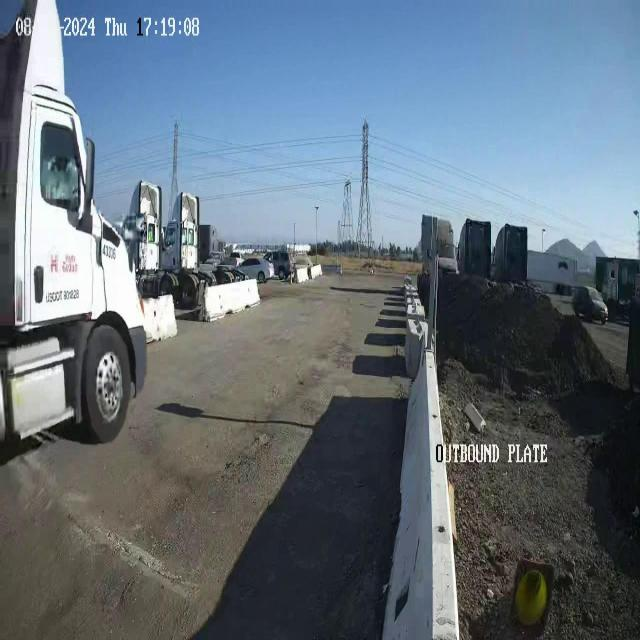TRUCK_IN: (0, 1, 148, 453)
